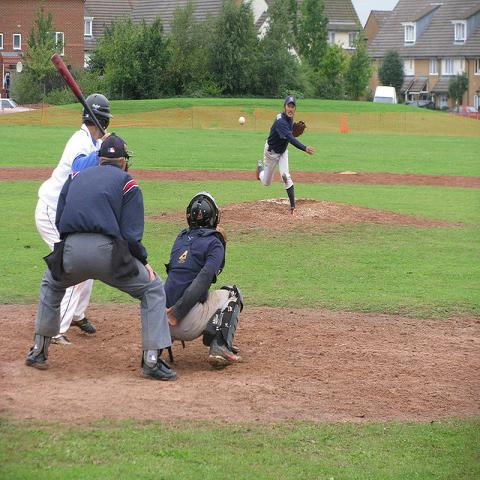car: (447, 104, 480, 120), (404, 100, 436, 110)
truck: (373, 83, 398, 104), (0, 99, 20, 115)
